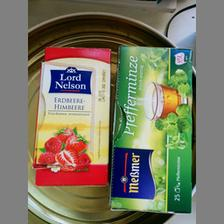Tee: (108, 43, 192, 212), (33, 45, 111, 189)
